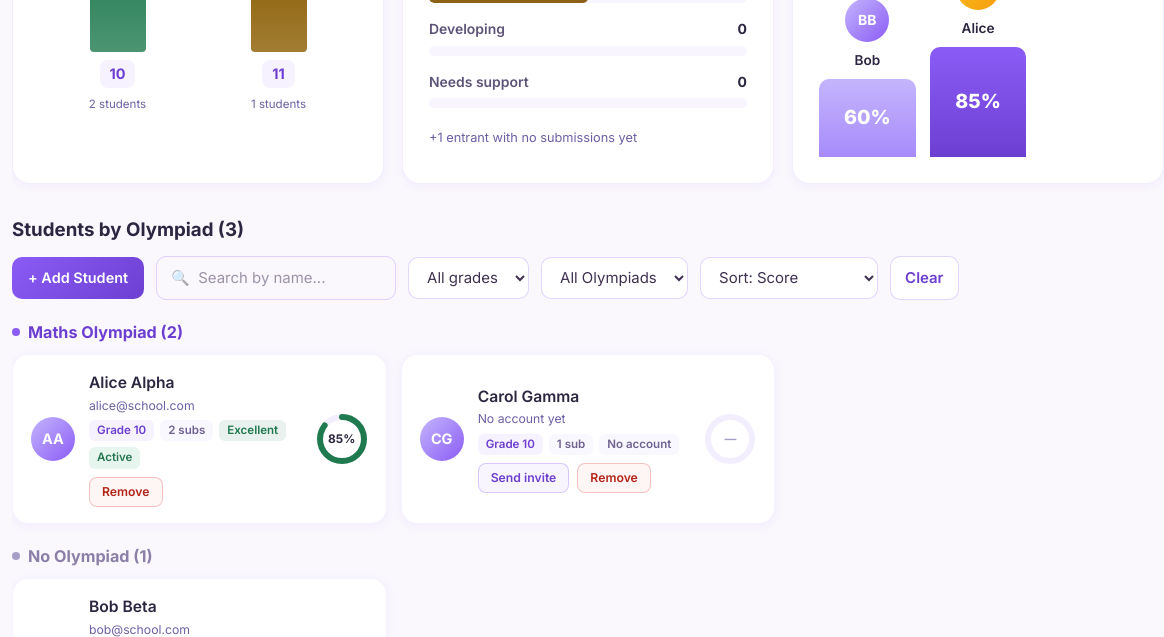
Test: School Dashboard Page › filters entrants by grade
(page scrolled)
Expected: the text "Alice Alpha" is shown, top-left (89, 373), bottom-right (175, 392)
Select "Grade 11" in the dropdown showing "All grades" at (469, 278), box top-left (408, 257), bottom-right (529, 299)
(page scrolled)
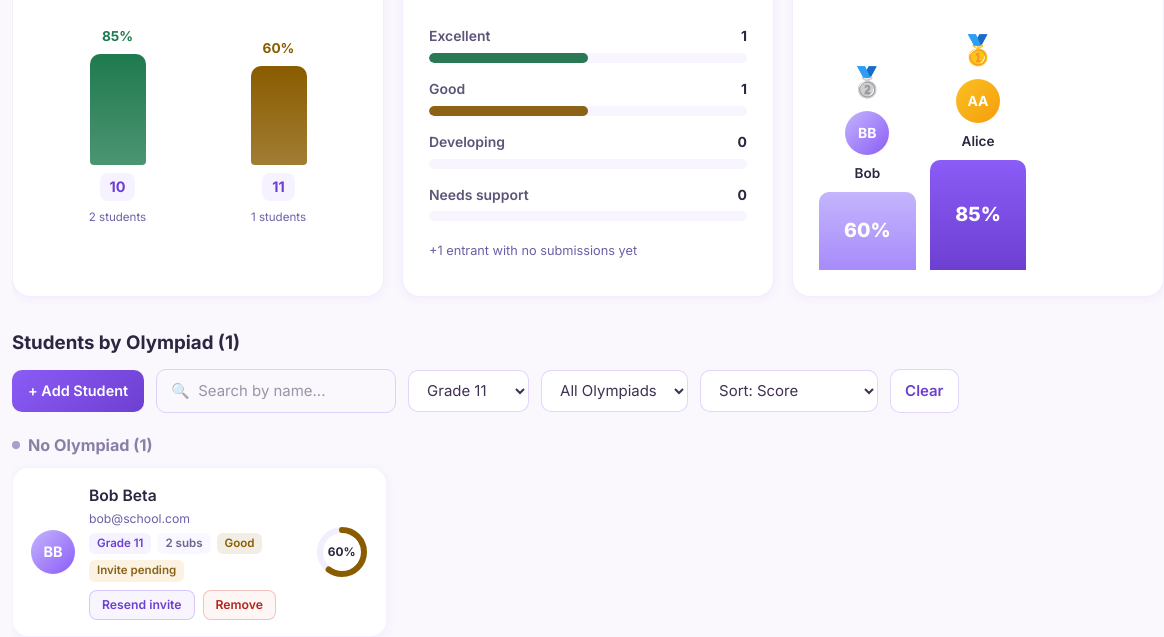
Expected: the text "Bob Beta" is shown, top-left (89, 486), bottom-right (157, 505)
Now the text "Alice Alpha" is gone
